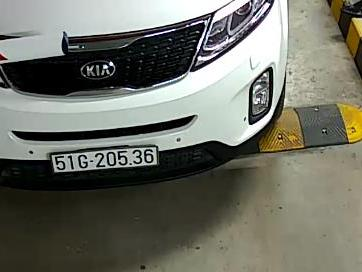car: (49, 145, 160, 174)
